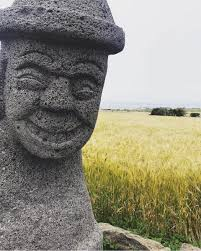Stone Statue: (0, 0, 132, 251)
